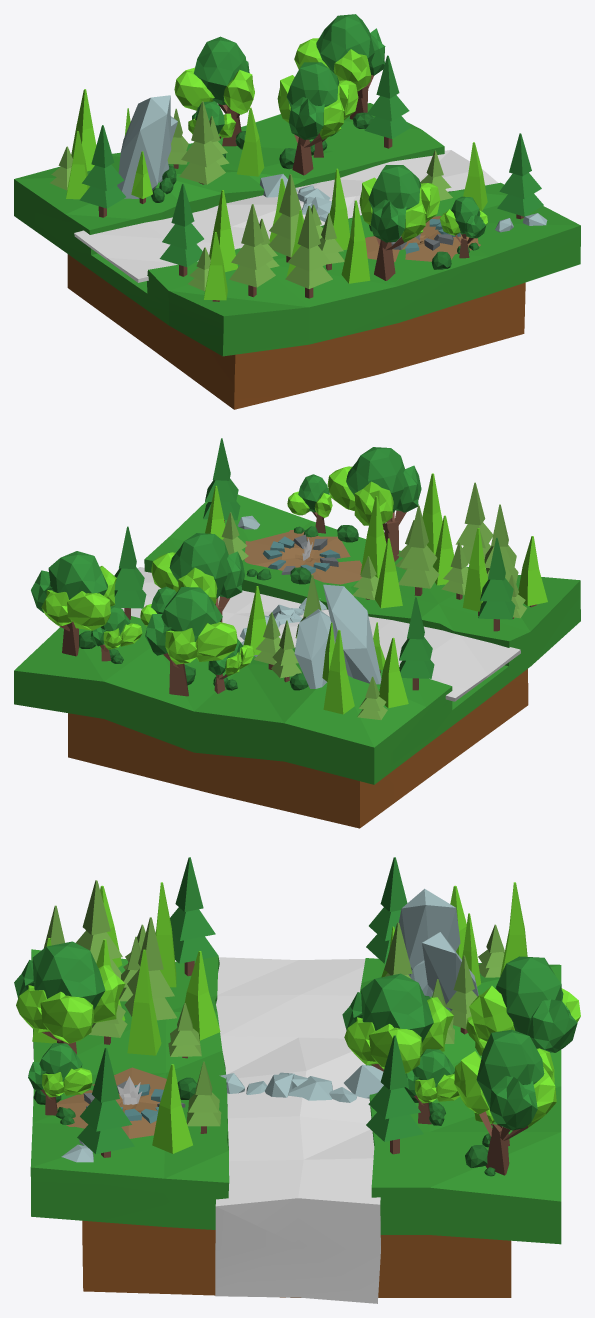
The model's file is forestV2.fbx.
The picture shows the model from 3 angles, top to bottom: view 1: azimuth 30°, elevation 25°; view 2: azimuth 150°, elevation 25°; view 3: azimuth 270°, elevation 25°; orthographic projection. The views are drawn at different scales.
Parts seen in each view (by area): view 1: Cube, Plane, Icosphere.035, Icosphere.031, Icosphere.028, Icosphere.006, Icosphere, Cube.013, Cube.003, Cube.020, Cube.019, Cube.017 (+21 smaller); view 2: Cube, Plane, Icosphere.028, Icosphere.006, Icosphere.035, Icosphere.031, Icosphere, Circle, Icosphere.001, Cube.012, Cube.017, Cube.019 (+25 smaller); view 3: Cube, Plane, Icosphere.006, Icosphere.035, Icosphere.031, Icosphere.028, Cube.020, Cube.010, Cube.017, Icosphere, Icosphere.036, Icosphere.030 (+21 smaller).
Part boxes in pixels (left/top/right/bottom): Cube: left=14, top=103, right=580, bottom=409; Plane: left=74, top=150, right=497, bottom=282; Icosphere.035: left=359, top=165, right=440, bottom=280; Icosphere.031: left=277, top=62, right=358, bottom=175; Icosphere.028: left=174, top=36, right=254, bottom=146; Icosphere.006: left=294, top=14, right=385, bottom=119; Icosphere: left=117, top=95, right=171, bottom=198; Cube.013: left=285, top=206, right=332, bottom=298; Cube.003: left=229, top=204, right=275, bottom=297; Cube.020: left=364, top=55, right=411, bottom=148; Cube.019: left=79, top=125, right=125, bottom=217; Cube.017: left=159, top=183, right=203, bottom=276; Cube: left=14, top=494, right=580, bottom=828; Plane: left=121, top=567, right=520, bottom=701; Icosphere.028: left=145, top=587, right=237, bottom=696; Icosphere.006: left=31, top=551, right=116, bottom=656; Icosphere.035: left=327, top=447, right=421, bottom=561; Icosphere.031: left=151, top=533, right=244, bottom=622; Icosphere: left=323, top=584, right=381, bottom=684; Circle: left=244, top=530, right=361, bottom=584; Icosphere.001: left=294, top=609, right=334, bottom=688; Cube.012: left=398, top=505, right=439, bottom=595; Cube.017: left=478, top=537, right=515, bottom=631; Cube.019: left=399, top=597, right=434, bottom=690; Cube: left=30, top=949, right=561, bottom=1297; Plane: left=215, top=957, right=380, bottom=1303; Icosphere.006: left=454, top=1029, right=556, bottom=1175; Icosphere.035: left=14, top=941, right=125, bottom=1054; Icosphere.031: left=342, top=973, right=453, bottom=1073; Icosphere.028: left=469, top=956, right=580, bottom=1052; Cube.020: left=366, top=1035, right=423, bottom=1154; Cube.010: left=77, top=1047, right=134, bottom=1157; Cube.017: left=170, top=857, right=218, bottom=976; Icosphere: left=398, top=888, right=460, bottom=976; Icosphere.036: left=28, top=1043, right=92, bottom=1115; Icosphere.030: left=404, top=1049, right=459, bottom=1124.
Size of the model in its own units: 267 by 143 by 271.
